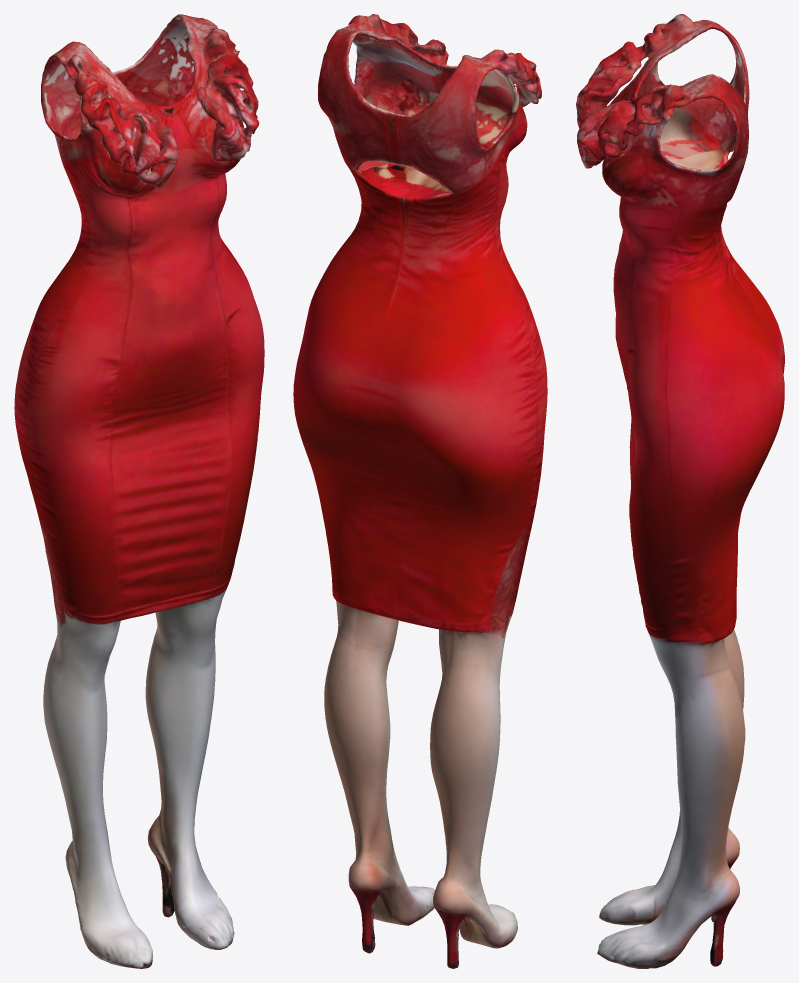
File: job_1743892608_refined.glb
3 renders of one model, left to right at view 1: azimuth 30°, elevation 25°; view 2: azimuth 150°, elevation 25°; view 3: azimuth 270°, elevation 25°, orthographic. The views are drawn at different scales.
Size of the model in its own units: 0.5349 by 2.01 by 0.424.
1 material, 1 textured.
